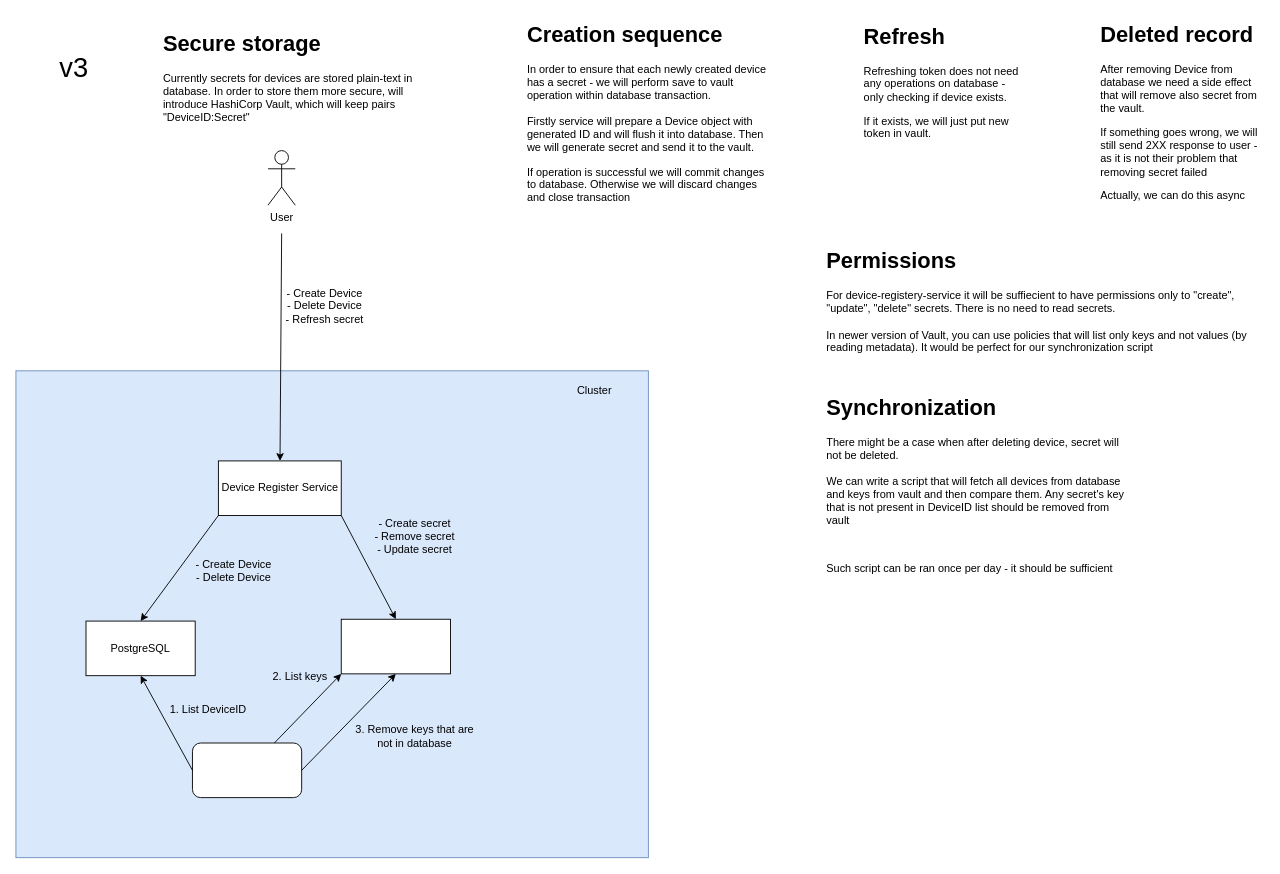
This 1280x874 diagram has some shape labels left out. Here are the shapes that lost their labels. From the top down, the centre of each, then its label:
At pixel 395 646: "Vault".
At pixel 247 770: "CronJob - Synchronization".
